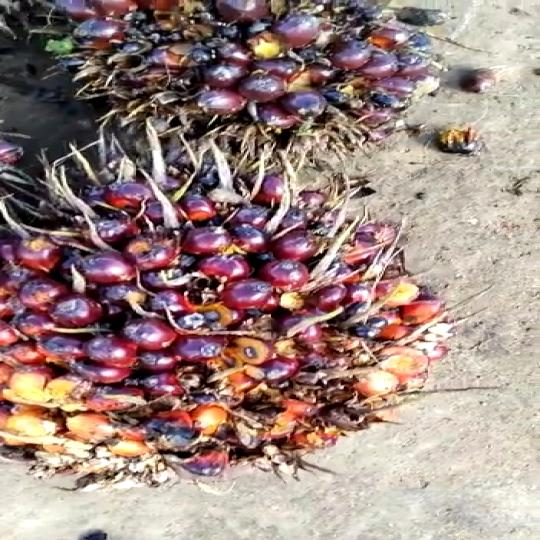masak: (0, 144, 462, 500)
